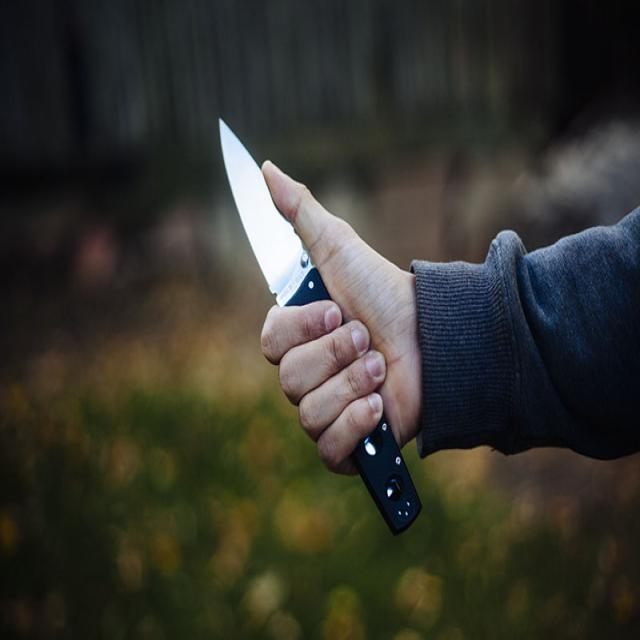knife: (215, 116, 426, 543)
